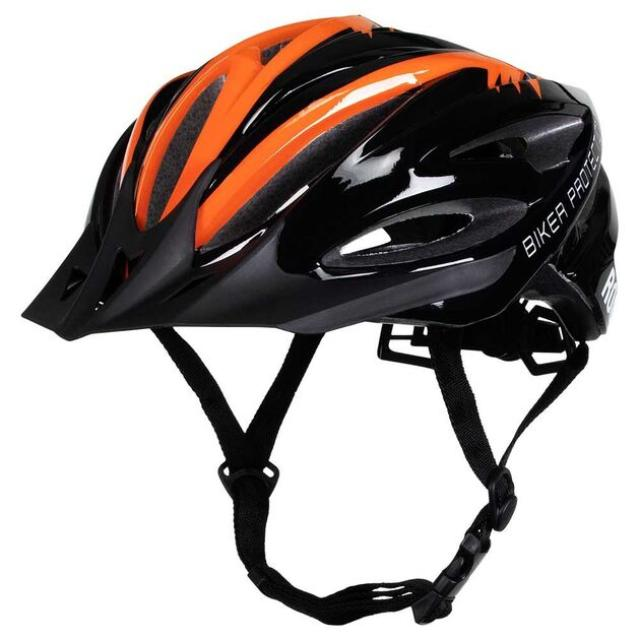Helmet: (19, 13, 623, 628)
